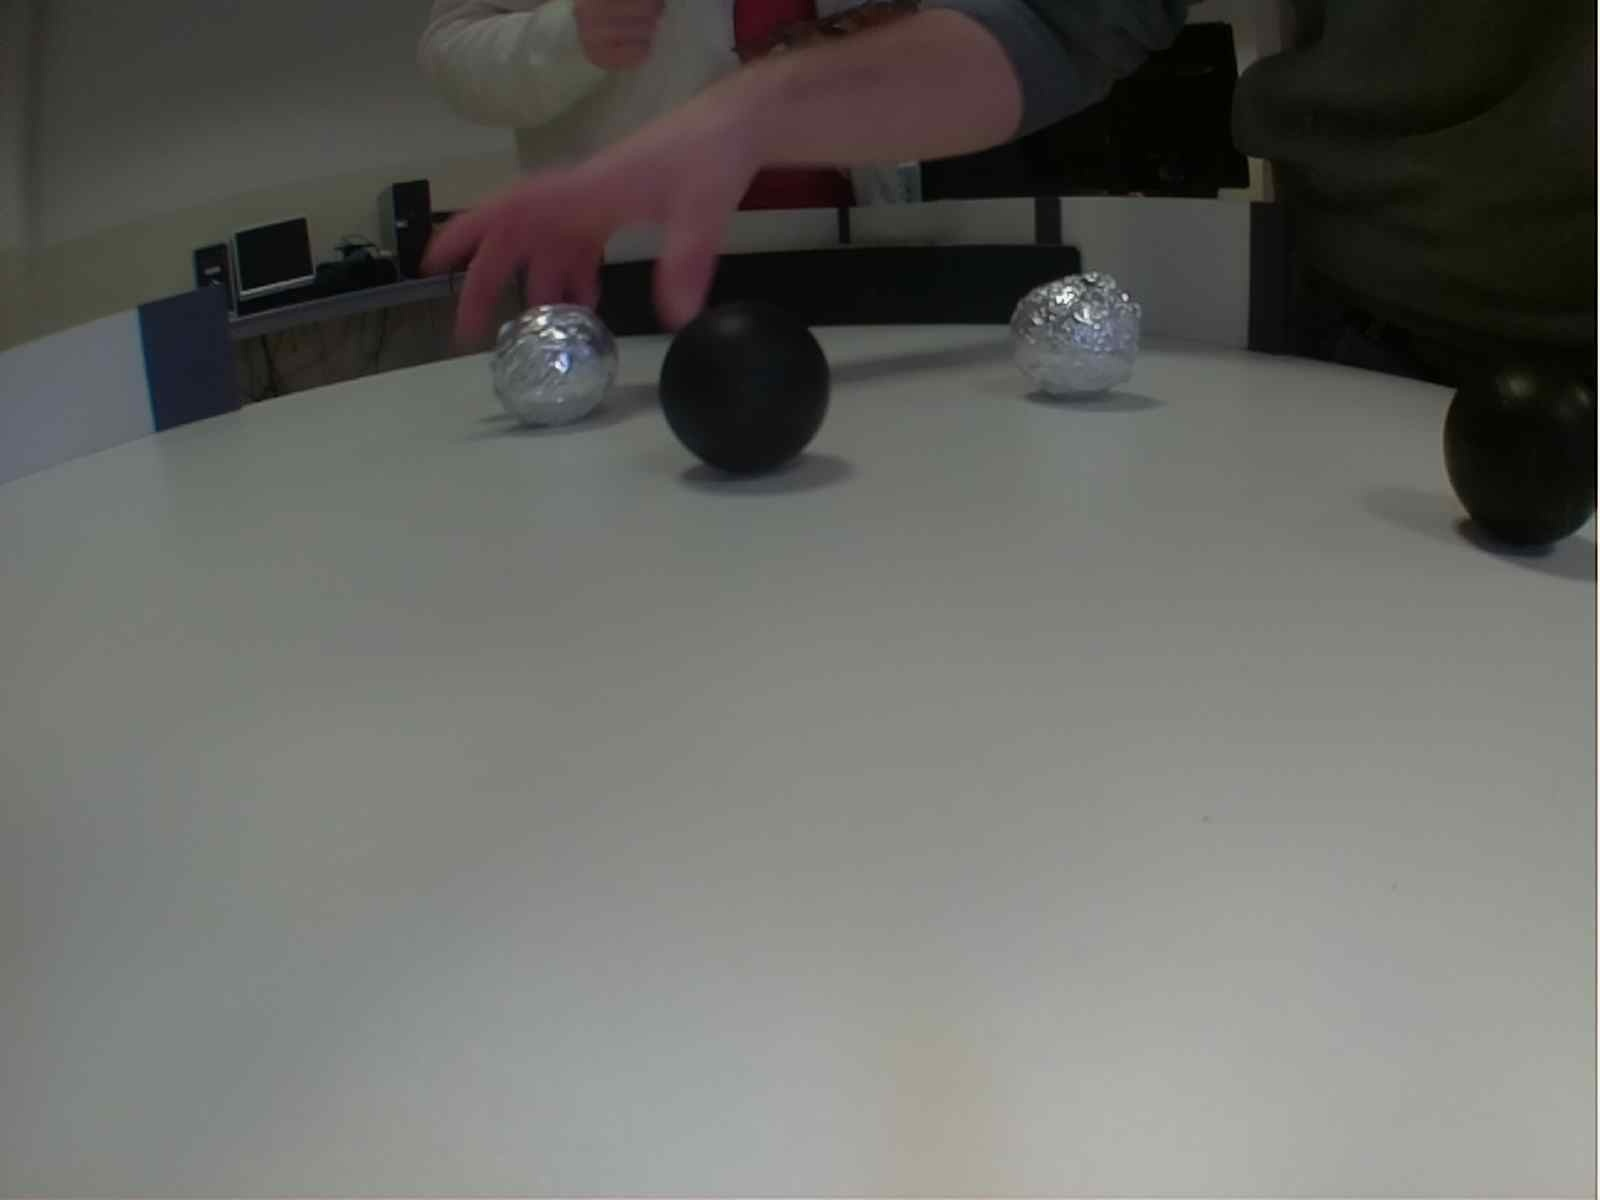bianca: (1009, 274, 1141, 407), (483, 308, 610, 436)
nera: (1439, 332, 1600, 555), (656, 303, 838, 484)
